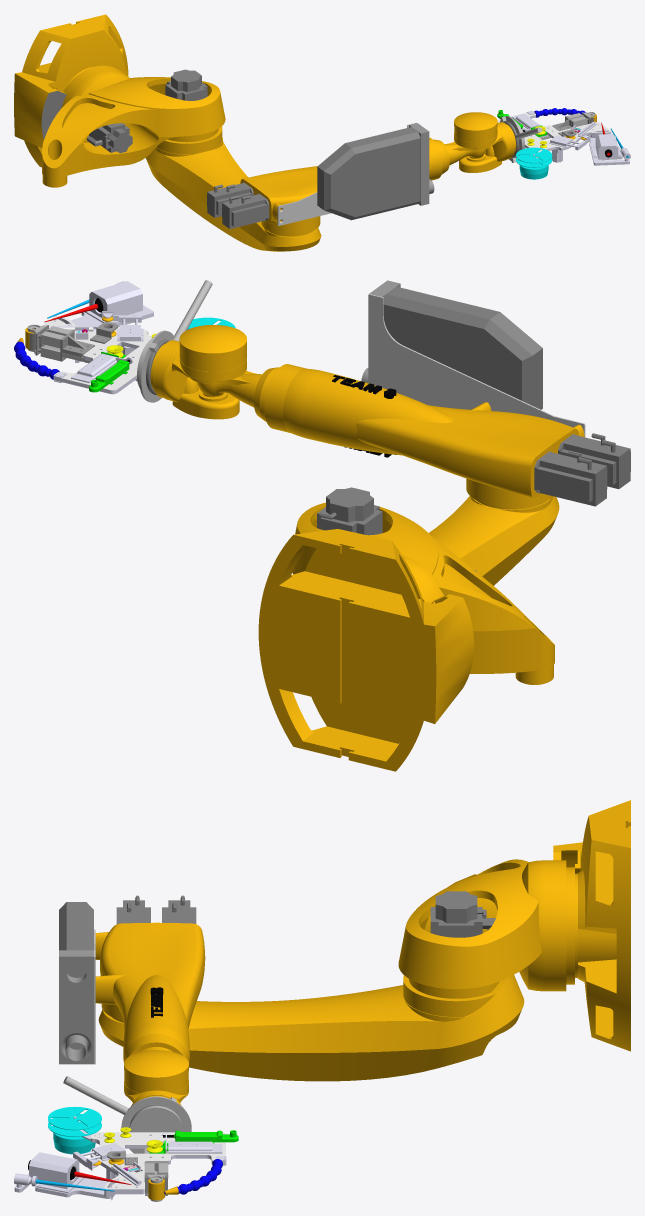
File: AFP_Robot-v1.glb
3 renders of one model, top to bottom at view 1: azimuth 30°, elevation 25°; view 2: azimuth 150°, elevation 25°; view 3: azimuth 270°, elevation 25°, orthographic. The views are drawn at different scales.
Parts seen in each view (by area): view 1: KR210_R2700_09(KR210_R2700_09.1), KR210_R2700_30(KR210_R2700_30.1), KR210_R2700_02(KR210_R2700_02.1), KR210_R2700_13(KR210_R2700_13.1), KR210_R2700_18(KR210_R2700_18.1), KR210_R2700_28(KR210_R2700_28.1), KR210_R2700_01-3(KR210_R2700_01-3.1), KR210_R2700_15(KR210_R2700_15.1), KR210_R2700_01(KR210_R2700_01.1), KR210_R2700_01-2(KR210_R2700_01-2.1), KR210_R2700_35(KR210_R2700_35.1), Base_01(Base_01.1) (+6 smaller); view 2: KR210_R2700_02(KR210_R2700_02.1), KR210_R2700_18(KR210_R2700_18.1), KR210_R2700_09(KR210_R2700_09.1), KR210_R2700_30(KR210_R2700_30.1), KR210_R2700_35(KR210_R2700_35.1), KR210_R2700_28(KR210_R2700_28.1), KR210_R2700_13(KR210_R2700_13.1), KR210_R2700_15(KR210_R2700_15.1), KR210_R2700_01-3(KR210_R2700_01-3.2), KR210_R2700_01(KR210_R2700_01.1), KR210_R2700_01-3(KR210_R2700_01-3.1), Base_01(Base_01.1) (+4 smaller); view 3: KR210_R2700_13(KR210_R2700_13.1), KR210_R2700_09(KR210_R2700_09.1), KR210_R2700_02(KR210_R2700_02.1), KR210_R2700_18(KR210_R2700_18.1), KR210_R2700_30(KR210_R2700_30.1), KR210_R2700_28(KR210_R2700_28.1), Base_01(Base_01.1), KR210_R2700_01(KR210_R2700_01.1), KR210_R2700_15(KR210_R2700_15.1), KR210_R2700_34(KR210_R2700_34.1), Heating_01_Semiconductor laser(Heating_01_Semiconductor lase, Guide_01_Prepreg creel(Guide_01_Prepreg creel.1) (+8 smaller).
Boxes of the visible parts, x1,y1,x2,y2 form: KR210_R2700_09(KR210_R2700_09.1): [42, 65, 225, 187]; KR210_R2700_30(KR210_R2700_30.1): [317, 123, 434, 220]; KR210_R2700_02(KR210_R2700_02.1): [14, 14, 128, 167]; KR210_R2700_13(KR210_R2700_13.1): [146, 126, 321, 251]; KR210_R2700_18(KR210_R2700_18.1): [240, 166, 320, 236]; KR210_R2700_28(KR210_R2700_28.1): [454, 112, 516, 172]; KR210_R2700_01-3(KR210_R2700_01-3.1): [222, 193, 269, 228]; KR210_R2700_15(KR210_R2700_15.1): [429, 137, 489, 180]; KR210_R2700_01(KR210_R2700_01.1): [165, 69, 207, 100]; KR210_R2700_01-2(KR210_R2700_01-2.1): [87, 123, 132, 153]; KR210_R2700_35(KR210_R2700_35.1): [277, 122, 416, 225]; Base_01(Base_01.1): [497, 112, 611, 152]; KR210_R2700_02(KR210_R2700_02.1): [258, 529, 474, 771]; KR210_R2700_18(KR210_R2700_18.1): [303, 372, 584, 509]; KR210_R2700_09(KR210_R2700_09.1): [292, 502, 554, 684]; KR210_R2700_30(KR210_R2700_30.1): [361, 280, 542, 409]; KR210_R2700_35(KR210_R2700_35.1): [368, 294, 585, 436]; KR210_R2700_28(KR210_R2700_28.1): [150, 325, 246, 419]; KR210_R2700_13(KR210_R2700_13.1): [429, 496, 559, 585]; KR210_R2700_15(KR210_R2700_15.1): [190, 364, 326, 439]; KR210_R2700_01-3(KR210_R2700_01-3.2): [534, 450, 607, 506]; KR210_R2700_01(KR210_R2700_01.1): [317, 487, 382, 535]; KR210_R2700_01-3(KR210_R2700_01-3.1): [558, 433, 630, 488]; Base_01(Base_01.1): [42, 315, 152, 394]; KR210_R2700_13(KR210_R2700_13.1): [98, 975, 524, 1081]; KR210_R2700_09(KR210_R2700_09.1): [398, 859, 577, 991]; KR210_R2700_02(KR210_R2700_02.1): [553, 800, 630, 1051]; KR210_R2700_18(KR210_R2700_18.1): [95, 922, 205, 1052]; KR210_R2700_30(KR210_R2700_30.1): [59, 902, 93, 1064]; KR210_R2700_28(KR210_R2700_28.1): [124, 1050, 188, 1105]; Base_01(Base_01.1): [90, 1132, 225, 1192]; KR210_R2700_01(KR210_R2700_01.1): [430, 891, 495, 937]; KR210_R2700_15(KR210_R2700_15.1): [123, 1023, 189, 1062]; KR210_R2700_34(KR210_R2700_34.1): [63, 1076, 191, 1153]; Heating_01_Semiconductor laser(Heating_01_Semiconductor lase: [29, 1152, 84, 1193]; Guide_01_Prepreg creel(Guide_01_Prepreg creel.1): [48, 1106, 101, 1136].
Size of the model in its own units: 2.84 by 0.8526 by 2.28.
